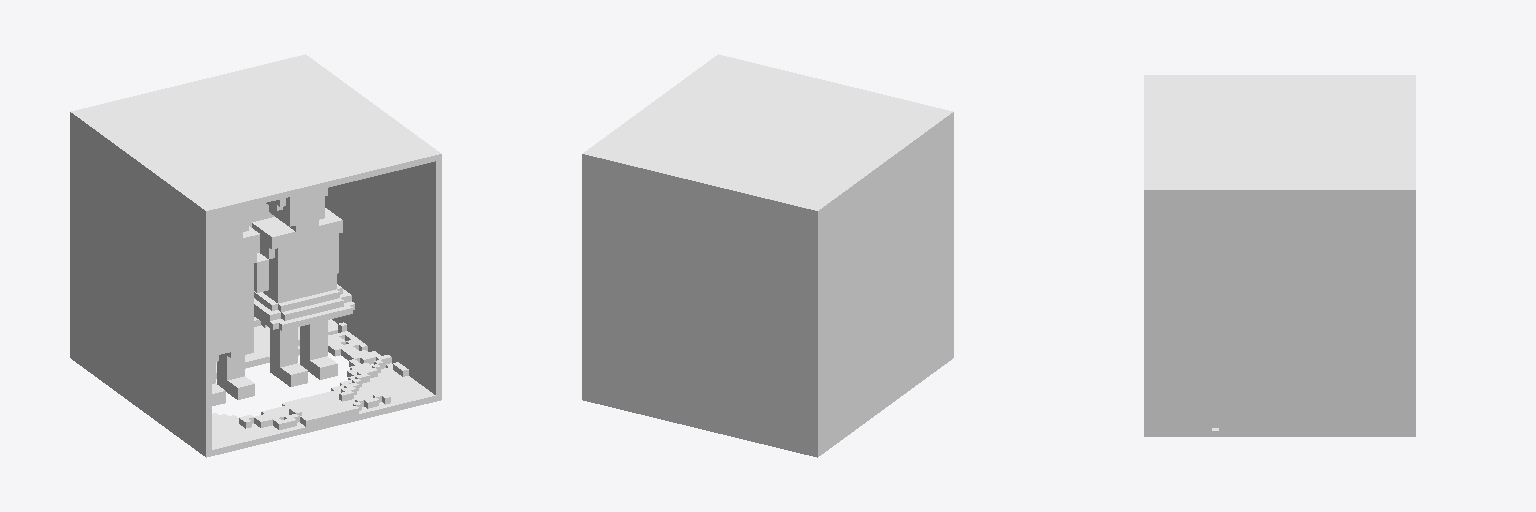
Rendered from ForNut.obj.
3 renders of one model, left to right at view 1: azimuth 30°, elevation 25°; view 2: azimuth 150°, elevation 25°; view 3: azimuth 270°, elevation 25°, orthographic.
Visible parts, largest first — view 1: object 1; view 2: object 1; view 3: object 1.
Part boxes in pixels (left/top/right/bottom): object 1: left=70, top=54, right=441, bottom=457; object 1: left=582, top=54, right=953, bottom=457; object 1: left=1144, top=75, right=1415, bottom=436.
Size of the model in its own units: 4 by 4 by 4.